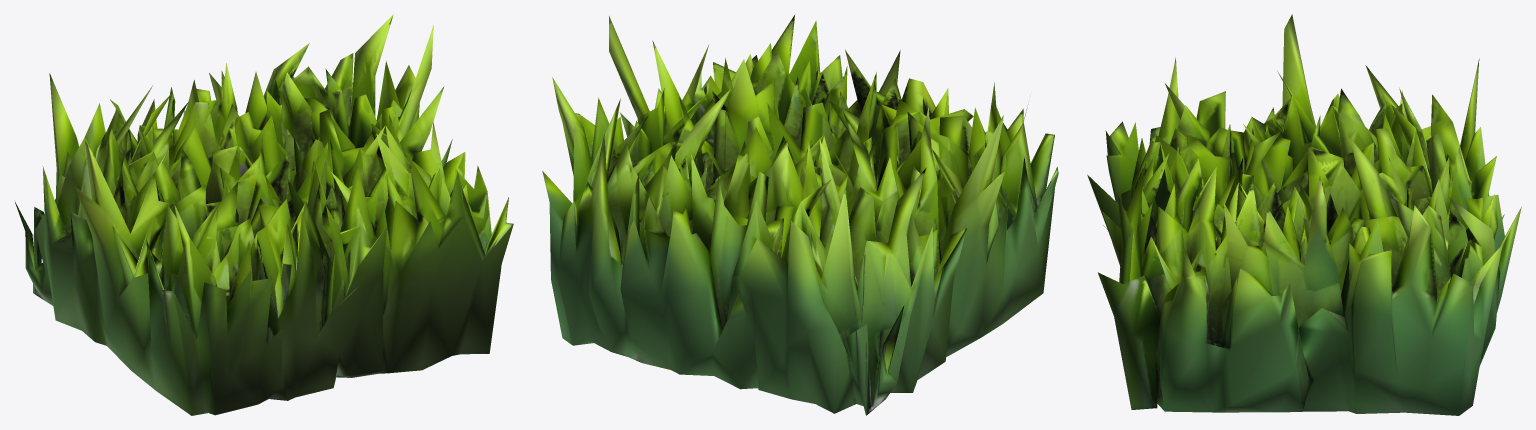
File: cali2.fbx
The picture shows the model from 3 angles, left to right: view 1: azimuth 30°, elevation 25°; view 2: azimuth 150°, elevation 25°; view 3: azimuth 270°, elevation 25°; orthographic projection. The views are drawn at different scales.
Visible parts, largest first — view 1: Mesh_0; view 2: Mesh_0; view 3: Mesh_0.
Boxes of the visible parts, x1=… form: Mesh_0: x1=15, y1=14, x2=513, y2=415; Mesh_0: x1=542, y1=15, x2=1058, y2=415; Mesh_0: x1=1087, y1=14, x2=1521, y2=415.
Bounding box in the file's own units: 175 × 112 × 172.
Materials: 1 (1 with a texture image).
